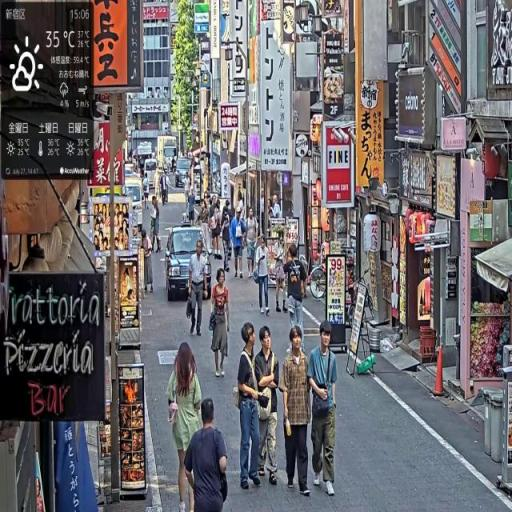person: (167, 341, 206, 512), (308, 317, 341, 502), (235, 320, 269, 495), (281, 325, 314, 497), (185, 398, 230, 512), (255, 325, 284, 488), (187, 239, 210, 338), (210, 270, 231, 378), (255, 231, 272, 318), (232, 207, 247, 281), (245, 210, 260, 282), (152, 196, 164, 255)
